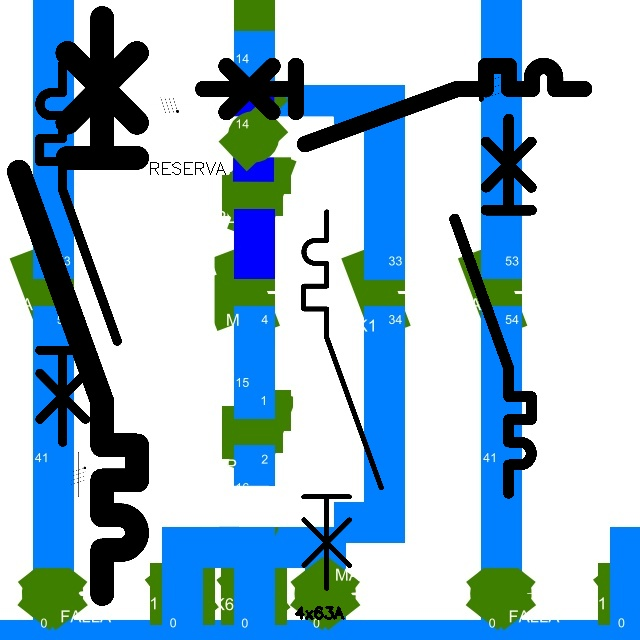interruptor_termomagnetico: (4, 3, 152, 609), (193, 56, 594, 154), (30, 54, 127, 452), (294, 202, 391, 598), (445, 109, 541, 502)
